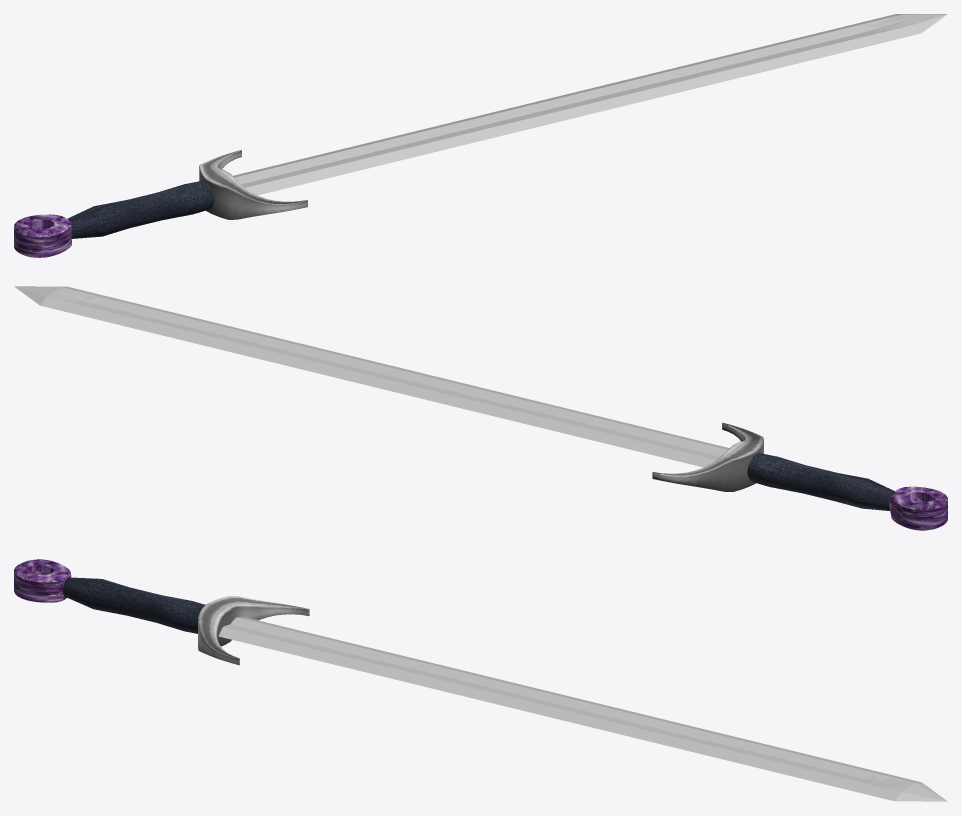
The model's file is sword.FBX.
3 renders of one model, top to bottom at view 1: azimuth 30°, elevation 25°; view 2: azimuth 150°, elevation 25°; view 3: azimuth 330°, elevation 25°, orthographic.
Visible parts, largest first — view 1: Cylinder002; view 2: Cylinder002; view 3: Cylinder002.
Part boxes in pixels (x1=…): Cylinder002: x1=14, y1=14, x2=947, y2=257; Cylinder002: x1=14, y1=286, x2=947, y2=530; Cylinder002: x1=14, y1=559, x2=947, y2=801.
Size of the model in its own units: 44.76 by 1.47 by 5.7.
